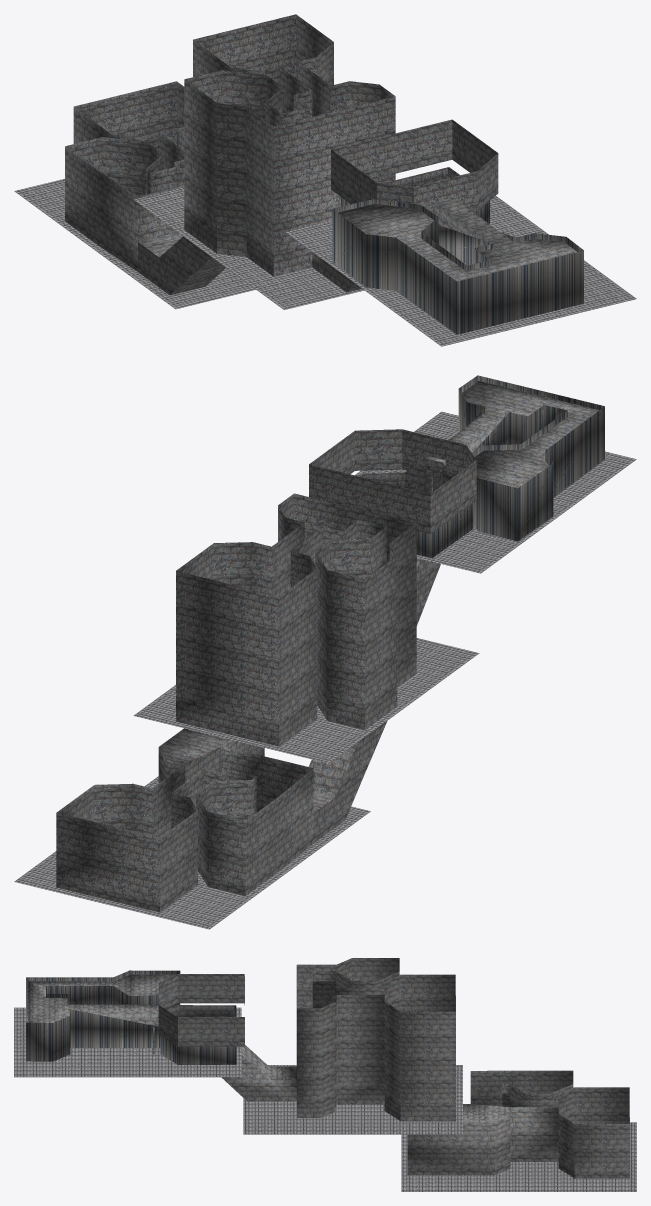
Rendered from game.fbx.
The picture shows the model from 3 angles, top to bottom: view 1: azimuth 30°, elevation 25°; view 2: azimuth 150°, elevation 25°; view 3: azimuth 270°, elevation 25°; orthographic projection. The views are drawn at different scales.
Parts seen in each view (by area): view 1: Cube.001, Cube; view 2: Cube.001, Cube; view 3: Cube.001, Cube.
Part boxes in pixels (x1,y1,x2,y2): Cube.001: (65,14,583,334); Cube: (14,178,636,346); Cube.001: (56,375,604,912); Cube: (14,411,636,929); Cube.001: (26,958,629,1178); Cube: (14,1007,636,1191).
Bounding box in the file's own units: 2704 × 3040 × 10244.
